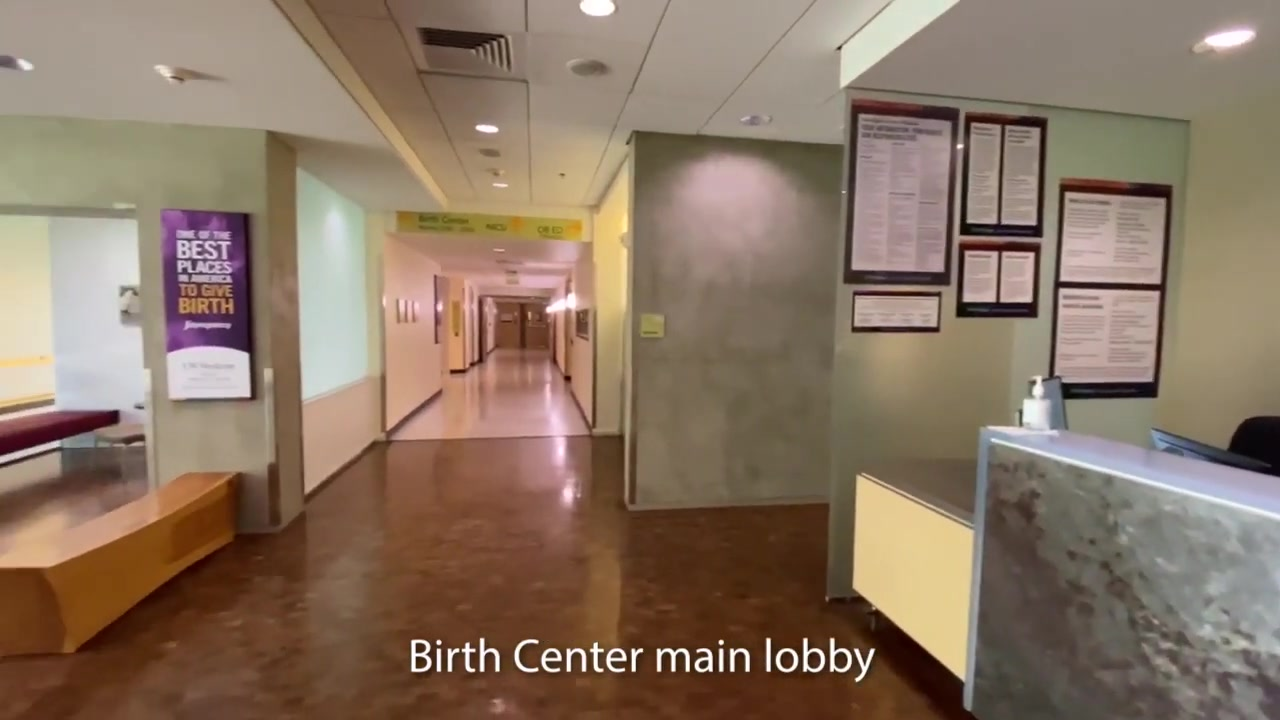chair: (1, 471, 242, 646)
counter: (978, 418, 1280, 717)
countertop: (991, 417, 1280, 524), (855, 439, 994, 531)
dispenser: (1024, 377, 1052, 428)
